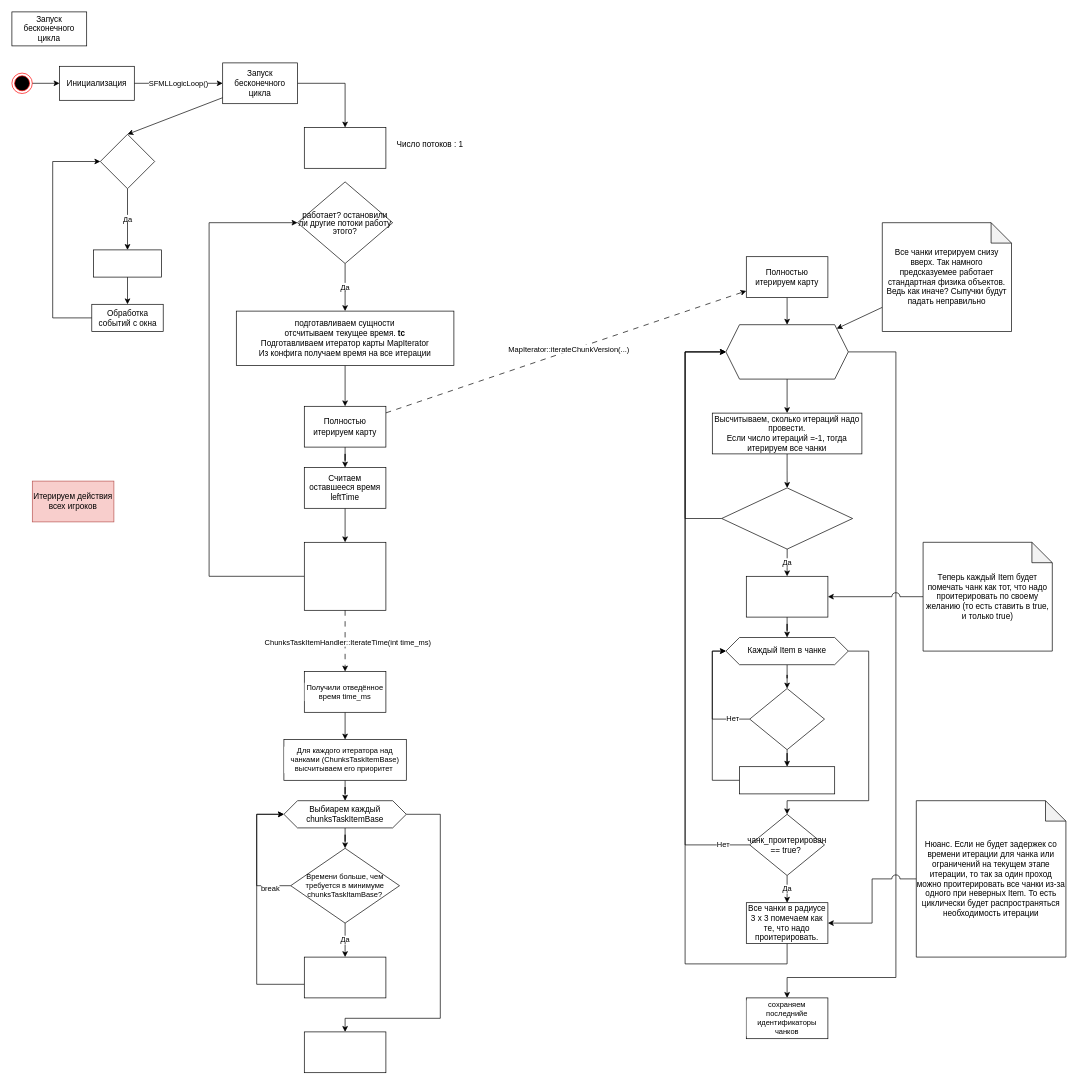
Image size: 1078x1085. Some labels were removed from this diagram. The box of each missing label's shape, as (x1, y1, x2, y2) in pixels:
Возврат: (304, 1031, 386, 1073)
Запуск итерации мира в отдельном потоке: (304, 127, 386, 168)
Итерируем специфические объекты на оставшееся доступное время. либо спим: (304, 542, 386, 610)
Кусочек времени отдаём на операцию, время уменьшается: (304, 956, 386, 998)
Надо итерировать Item?: (749, 688, 825, 750)
надо ли итерировать чанк?: (721, 487, 853, 549)
начальные_индексы_чанка = индексы с прошлой итерации: (725, 324, 848, 379)
Окно открыто?: (100, 134, 155, 189)
помечаем чанк как тот, что не надо итерировать: (746, 576, 828, 617)
Считывание событий с GUI: (93, 249, 162, 277)
чанк_проитерирован = Item.Iterate(): (739, 766, 835, 794)
